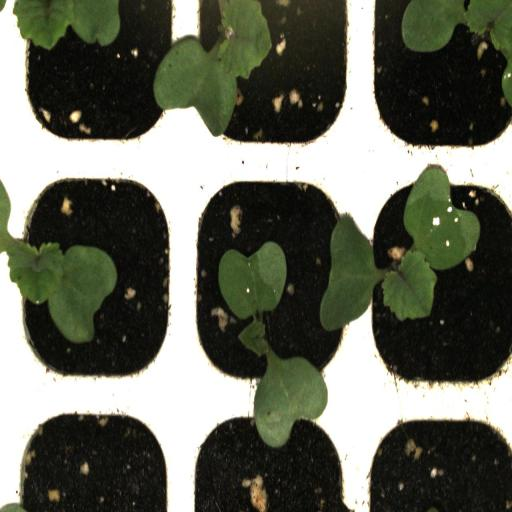Folha: (0, 0, 121, 51)
Germinacao: (4, 161, 183, 391), (187, 160, 361, 391), (361, 159, 512, 393), (182, 0, 361, 154)
